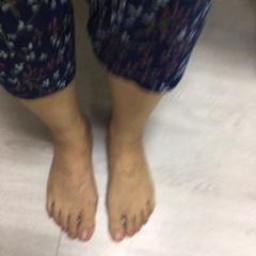Dorsal View -Both Feet-: (28, 104, 165, 246)
